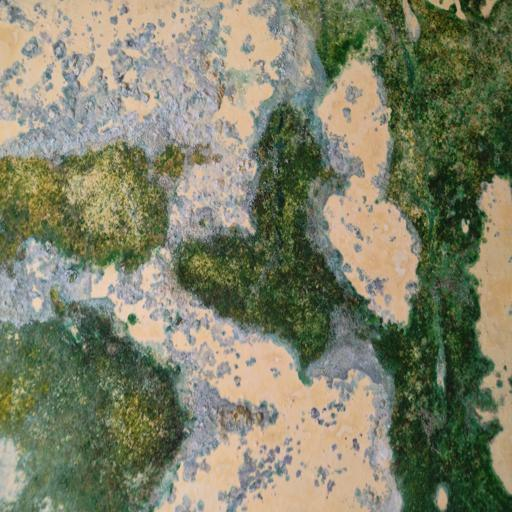algae: (178, 7, 512, 512)
